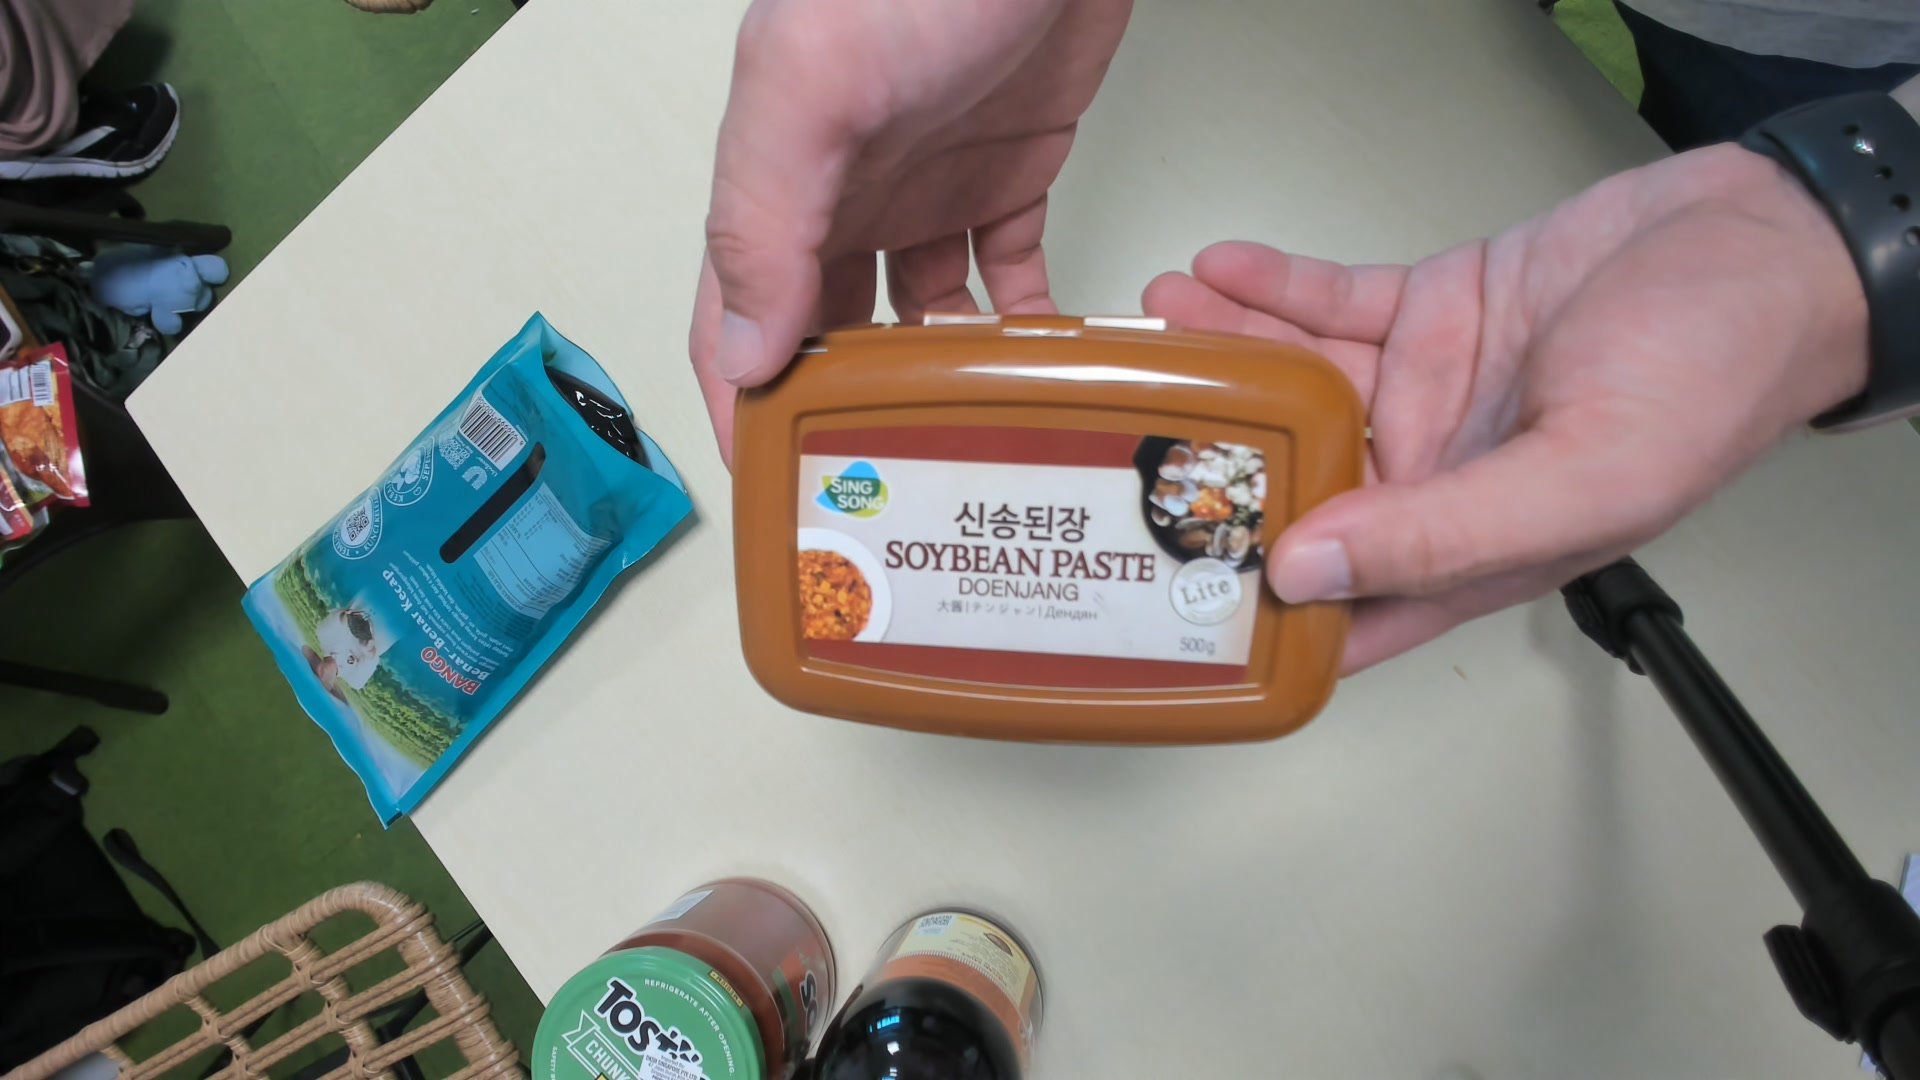OtherSauceDressing_500-599g_NonHalal_NonHealthy: (735, 307, 1356, 746)
